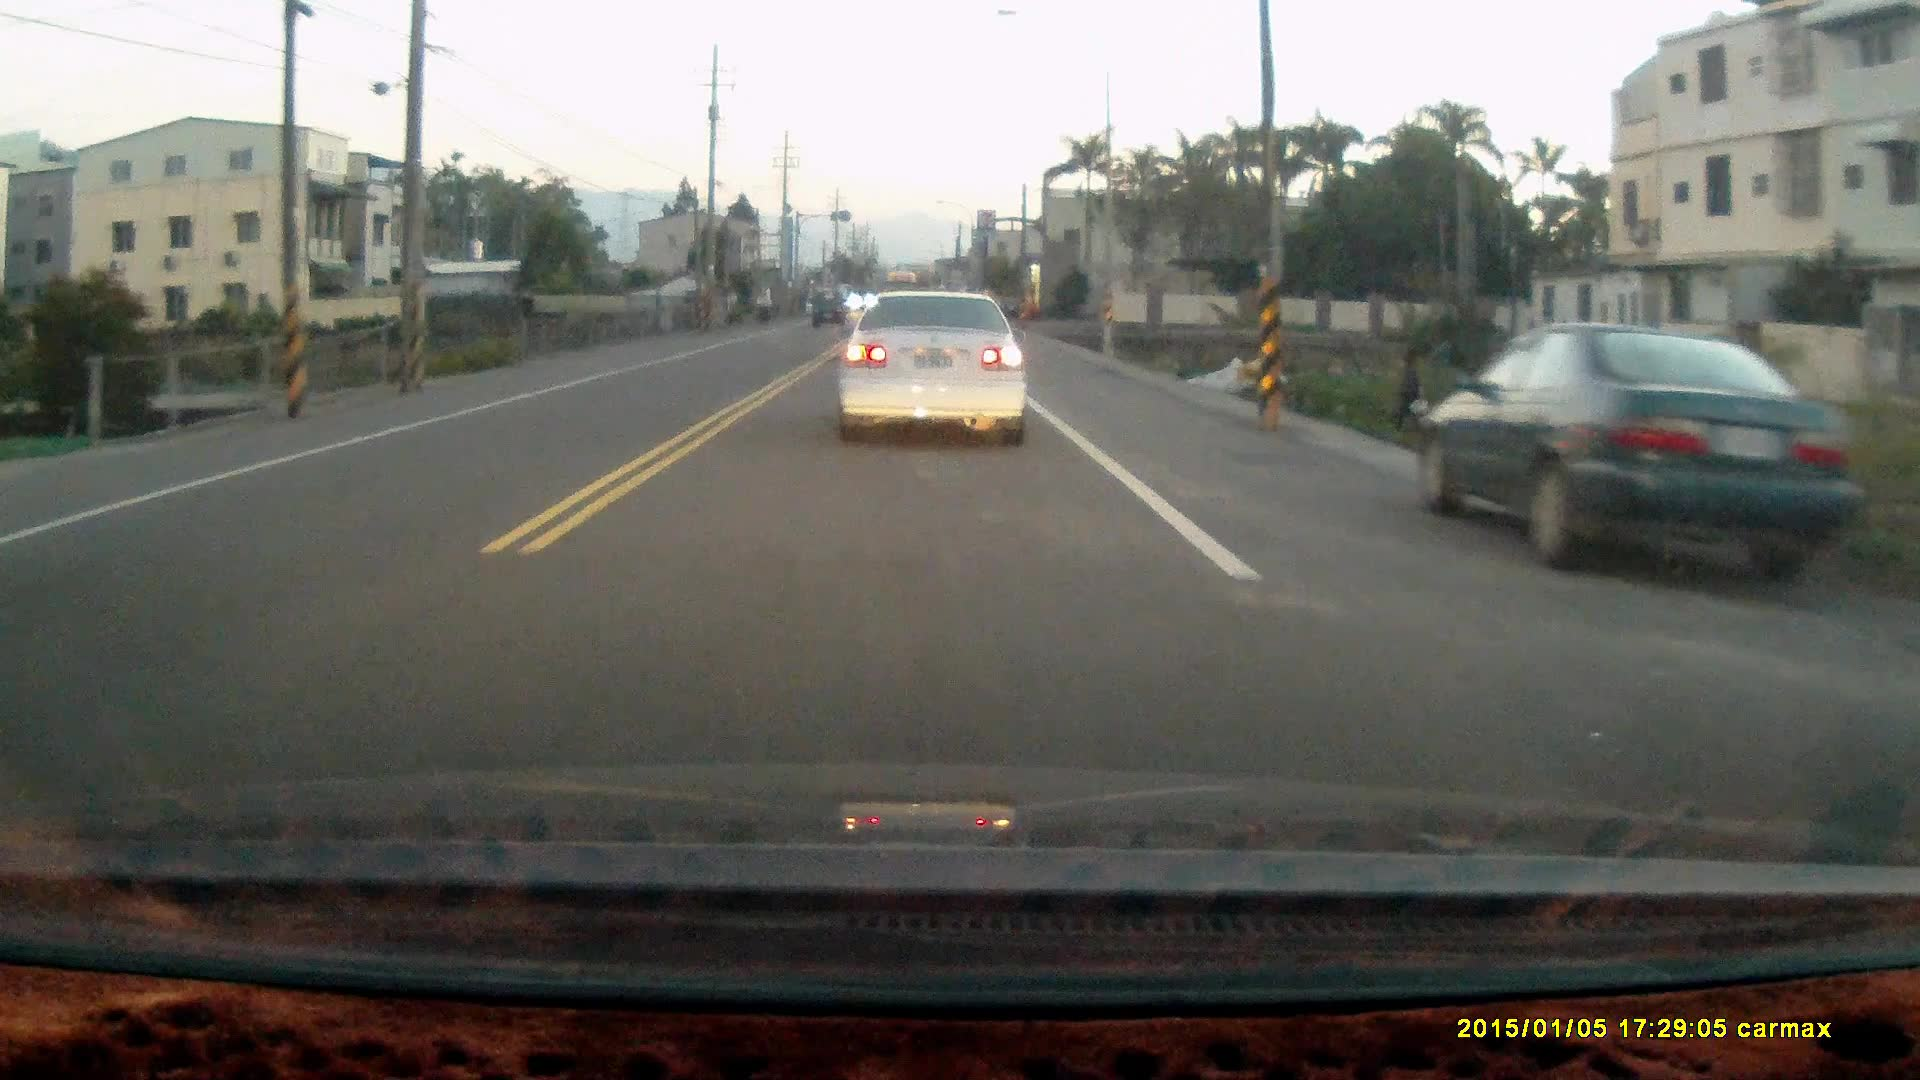pedestrian: (1396, 351, 1427, 428)
vehicle: (1421, 322, 1867, 581), (839, 288, 1033, 437), (810, 292, 848, 333)
